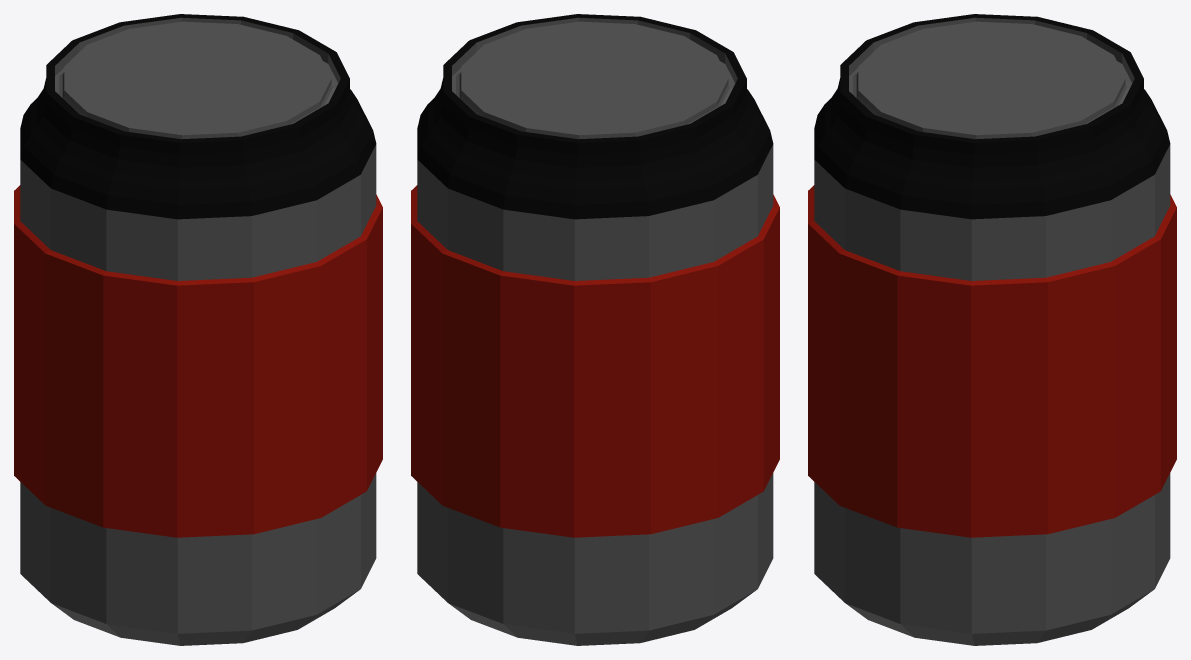
The model's file is lata.fbx.
3 renders of one model, left to right at view 1: azimuth 30°, elevation 25°; view 2: azimuth 150°, elevation 25°; view 3: azimuth 270°, elevation 25°, orthographic.
Visible parts, largest first — view 1: Cylinder.002; view 2: Cylinder.002; view 3: Cylinder.002.
Part boxes in pixels (x1=…): Cylinder.002: x1=14, y1=14, x2=382, y2=645; Cylinder.002: x1=411, y1=14, x2=779, y2=645; Cylinder.002: x1=808, y1=14, x2=1176, y2=645.
Size of the model in its own units: 18.48 by 27.7 by 18.38.
